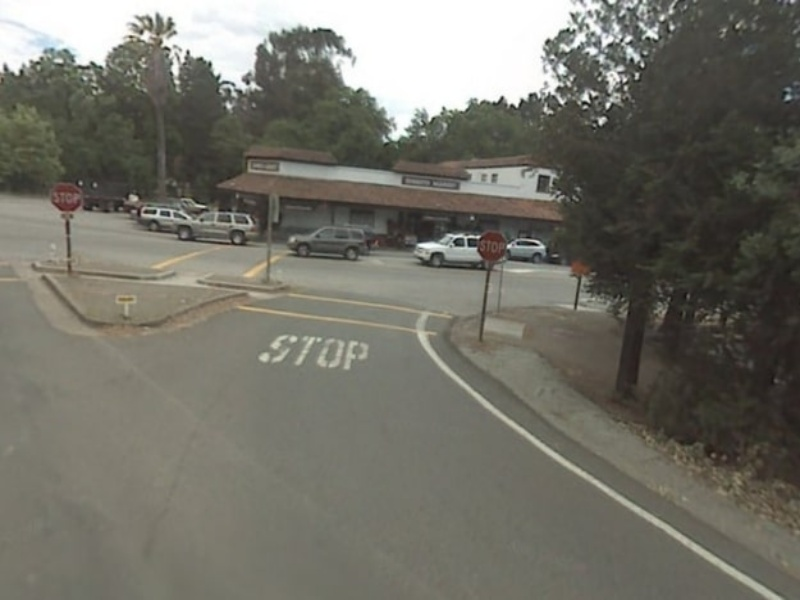stop sign: (46, 180, 87, 213), (475, 230, 509, 265)
